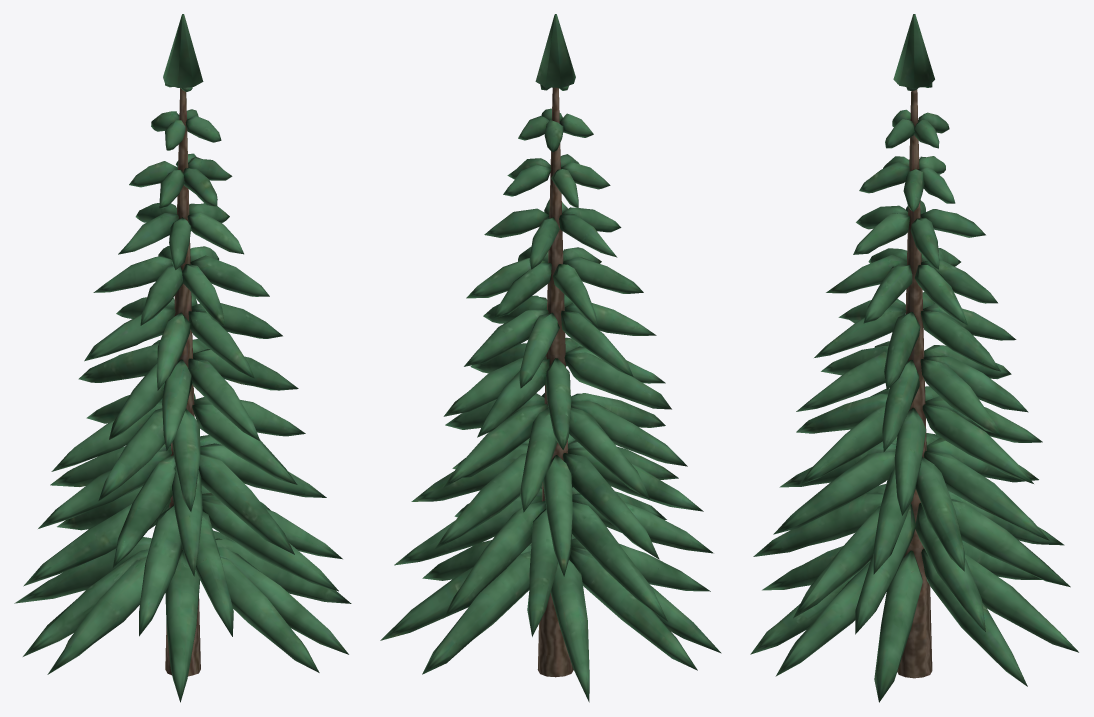
The model's file is pine.glb.
The picture shows the model from 3 angles, left to right: view 1: azimuth 30°, elevation 25°; view 2: azimuth 150°, elevation 25°; view 3: azimuth 270°, elevation 25°; orthographic projection.
Visible parts, largest first — view 1: pine; view 2: pine; view 3: pine.
Boxes of the visible parts, left/top/right/bottom form: pine: left=14, top=14, right=351, bottom=702; pine: left=380, top=14, right=721, bottom=702; pine: left=750, top=14, right=1078, bottom=702.
Size of the model in its own units: 5.85 by 12.11 by 5.51.
Materials: 2 (2 with a texture image).
